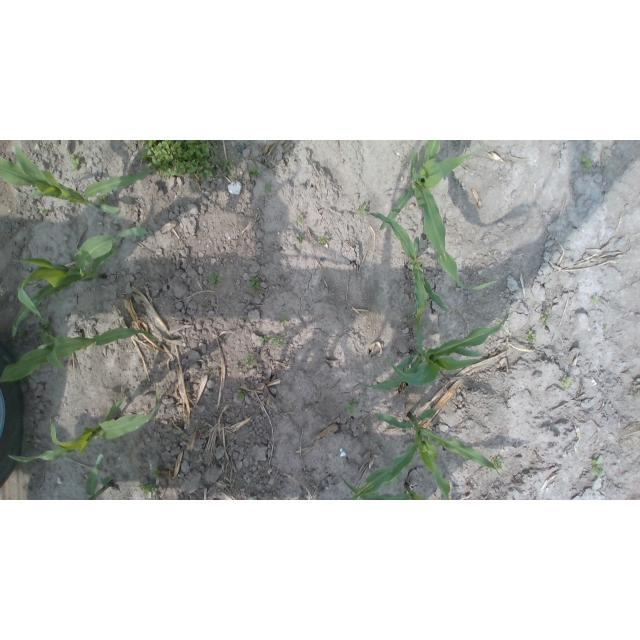Maize: (379, 141, 497, 294), (11, 228, 150, 338), (350, 411, 500, 500), (363, 210, 449, 358), (357, 310, 510, 392), (8, 389, 161, 464), (1, 145, 150, 215), (1, 328, 160, 385), (338, 473, 427, 500), (78, 453, 112, 500)
Weeds: (141, 140, 221, 181), (37, 321, 53, 344), (220, 160, 236, 181), (68, 152, 86, 170), (591, 456, 604, 477), (139, 482, 158, 494), (248, 276, 261, 293), (560, 376, 574, 391), (207, 270, 221, 284), (344, 400, 358, 413), (524, 330, 536, 345), (490, 457, 505, 469), (540, 311, 552, 325), (248, 167, 261, 179), (581, 156, 594, 168), (246, 354, 256, 367), (273, 335, 283, 348), (150, 465, 160, 477), (237, 388, 247, 400), (358, 204, 368, 216), (260, 333, 270, 345), (319, 235, 330, 245), (407, 311, 417, 322), (263, 183, 272, 195), (591, 295, 600, 305), (280, 316, 288, 326), (297, 233, 305, 242), (296, 214, 304, 222), (111, 245, 117, 254), (234, 363, 240, 369), (200, 304, 208, 308), (604, 324, 609, 330), (245, 316, 250, 321)
